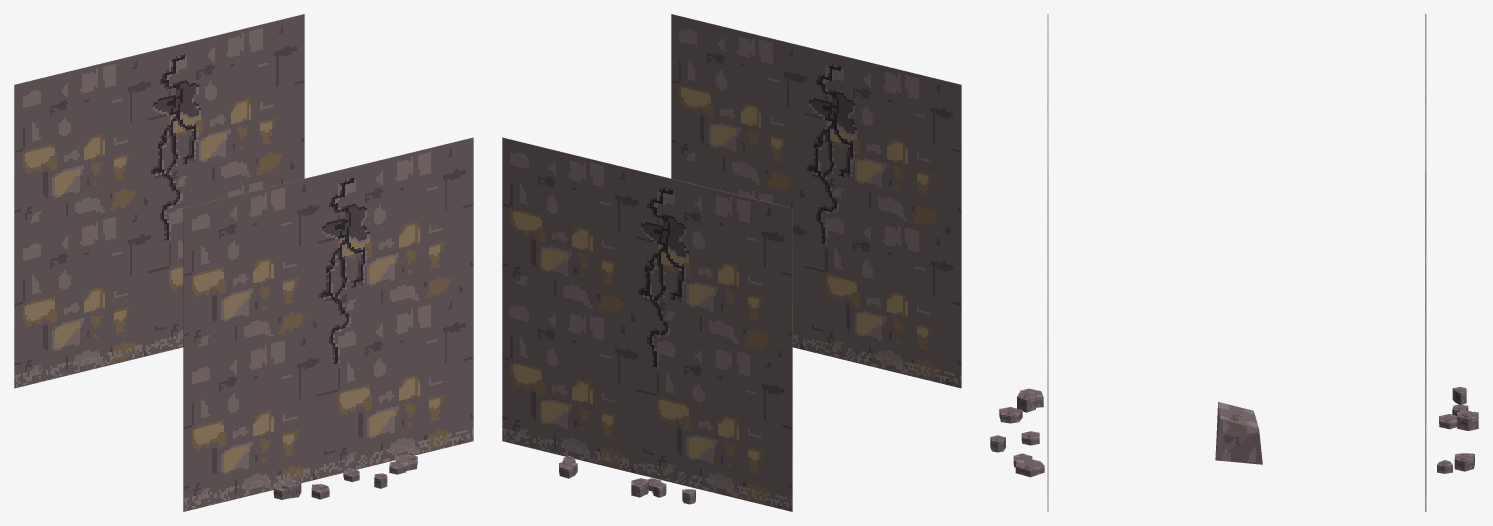
File: cracked_wall_c.glb
3 views of the same model, side by side, from view 1: azimuth 30°, elevation 25°; view 2: azimuth 150°, elevation 25°; view 3: azimuth 270°, elevation 25° (orthographic). The views are drawn at different scales.
Visible parts, largest first — view 1: panel_front, panel_back, debris_front; view 2: panel_back, panel_front, debris_back; view 3: chunk, debris_front, debris_back, panel_back, panel_front.
Part boxes in pixels (x1,y1,x2,y2): panel_front: (183, 137, 473, 511); panel_back: (14, 14, 304, 388); debris_front: (273, 454, 417, 499); panel_back: (502, 137, 792, 511); panel_front: (671, 14, 961, 388); debris_back: (559, 455, 695, 504); chunk: (1215, 402, 1262, 464); debris_front: (990, 388, 1044, 477); debris_back: (1437, 387, 1478, 473); panel_back: (1425, 14, 1426, 511); panel_front: (1047, 14, 1048, 511).
Bounding box in the file's own units: 2 × 2.14 × 2.61.
Materials: 1 (1 with a texture image).
